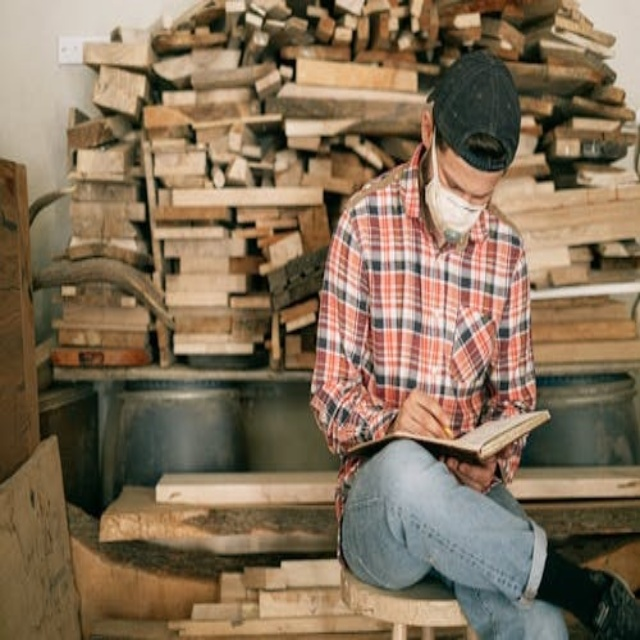Mascara: (424, 136, 491, 243)
Sin_gafas: (431, 138, 504, 219)
Sin_guantes: (449, 453, 500, 494)
